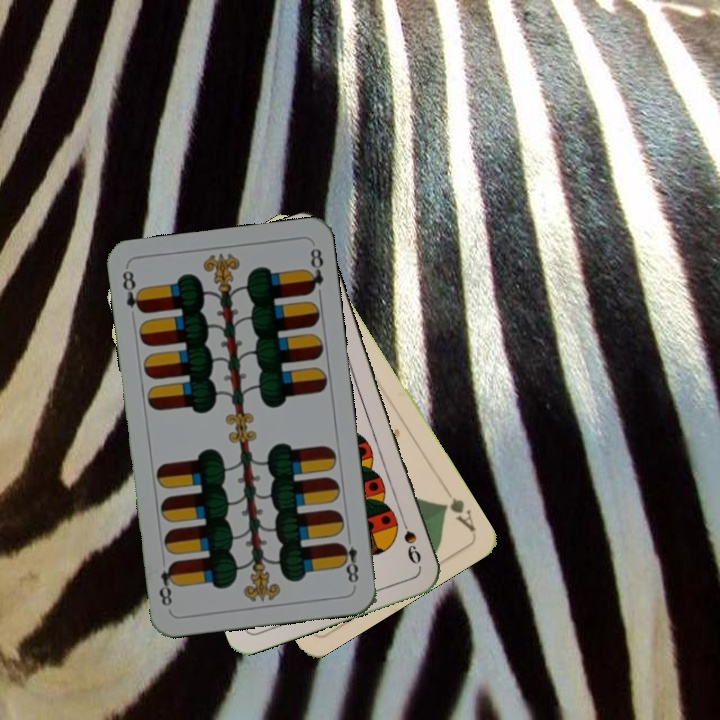E8: (335, 530, 361, 586), (118, 266, 147, 316)
GA: (437, 481, 479, 534)
S9: (396, 511, 424, 567)
